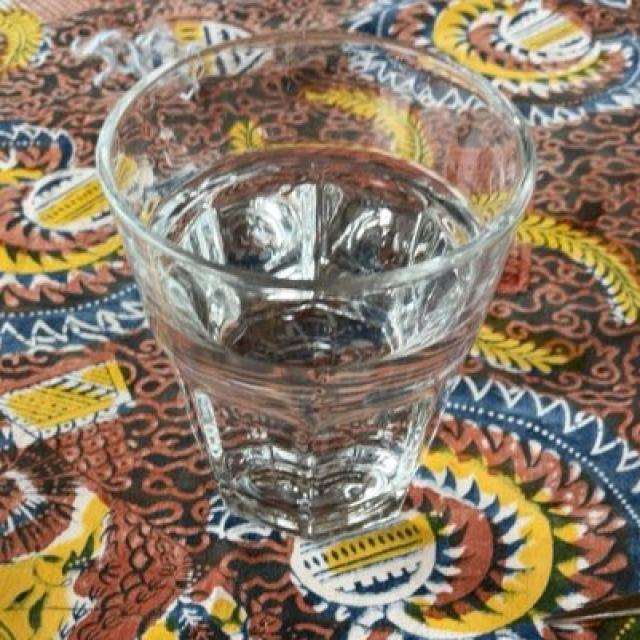water: (150, 139, 483, 529)
